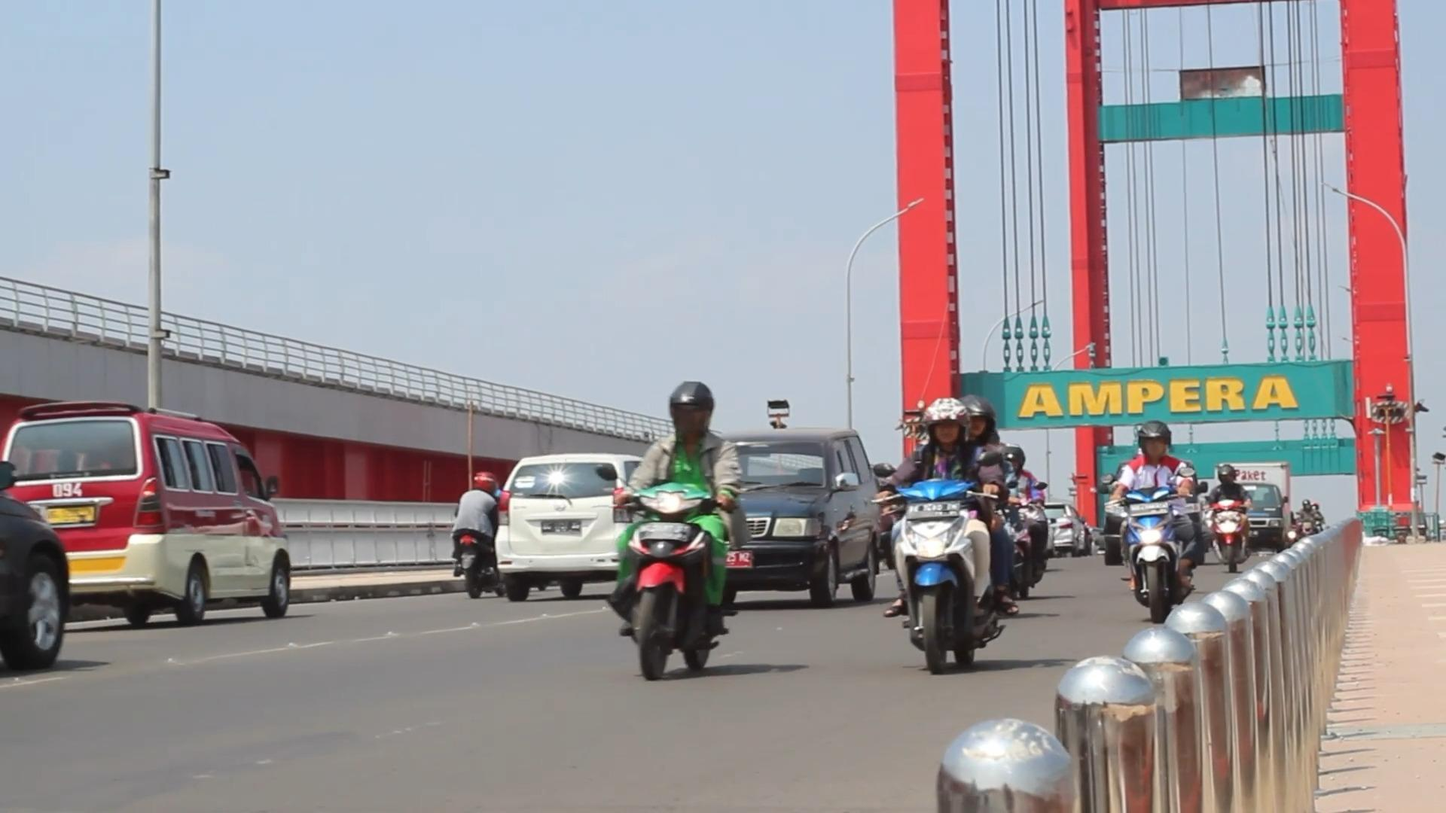Helmet: (916, 390, 975, 452), (663, 374, 718, 438), (1130, 410, 1180, 466), (955, 389, 997, 448)
bike: (590, 453, 747, 680), (866, 441, 1010, 672), (1109, 464, 1199, 623)
rider: (877, 393, 1022, 617), (621, 374, 741, 627), (1113, 416, 1207, 590)
